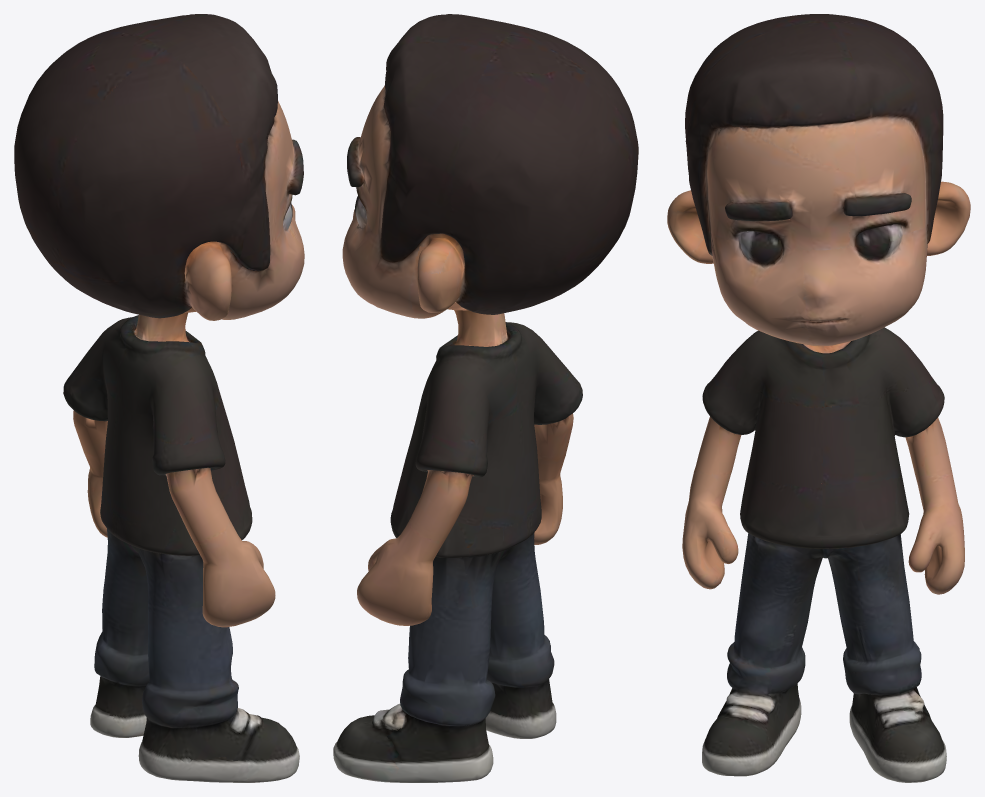
File: hair_m2-web.glb
3 views of the same model, side by side, from view 1: azimuth 30°, elevation 25°; view 2: azimuth 150°, elevation 25°; view 3: azimuth 270°, elevation 25° (orthographic).
Visible parts, largest first — view 1: tripo_node_076cc461-e63c-4e79-a00c-fbf306adf1c8; view 2: tripo_node_076cc461-e63c-4e79-a00c-fbf306adf1c8; view 3: tripo_node_076cc461-e63c-4e79-a00c-fbf306adf1c8.
Boxes of the visible parts, x1=… form: tripo_node_076cc461-e63c-4e79-a00c-fbf306adf1c8: x1=14, y1=14, x2=304, y2=782; tripo_node_076cc461-e63c-4e79-a00c-fbf306adf1c8: x1=333, y1=14, x2=638, y2=782; tripo_node_076cc461-e63c-4e79-a00c-fbf306adf1c8: x1=667, y1=14, x2=970, y2=782.
Bounding box in the file's own units: 0.3832 × 0.9997 × 0.387.
Materials: 1 (1 with a texture image).
